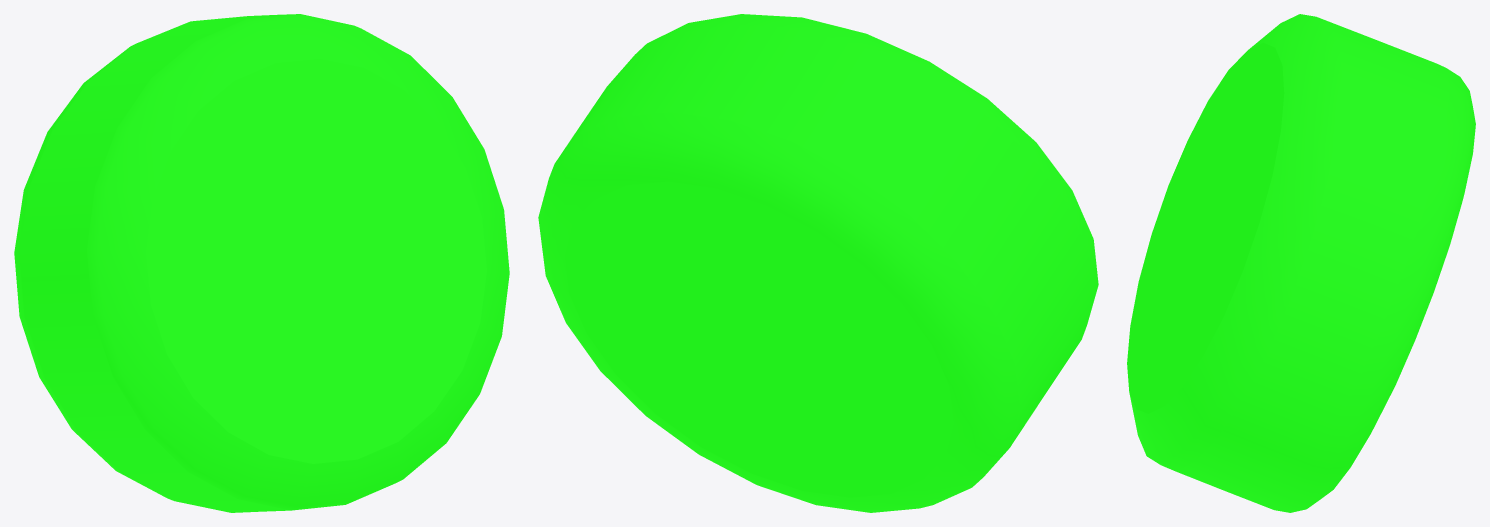
Rendered from light_light_0.dae.
3 renders of one model, left to right at view 1: azimuth 30°, elevation 25°; view 2: azimuth 150°, elevation 25°; view 3: azimuth 270°, elevation 25°, orthographic. The views are drawn at different scales.
Visible parts, largest first — view 1: light_light_0; view 2: light_light_0; view 3: light_light_0.
Part boxes in pixels (x1,y1,x2,y2): light_light_0: (14, 14, 509, 512); light_light_0: (538, 14, 1098, 512); light_light_0: (1127, 14, 1475, 512).
Size of the model in its own units: 0.00132 by 0.00136 by 0.000961.
